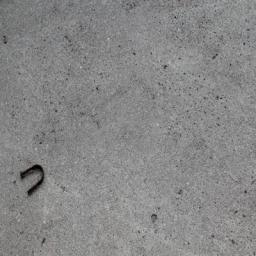FOD: (20, 162, 49, 197)
